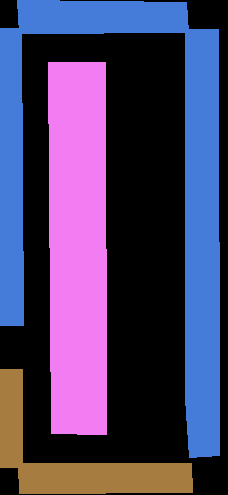parkingspot: (185, 29, 219, 457), (48, 62, 79, 433), (76, 62, 106, 434), (0, 28, 23, 325), (17, 0, 188, 33), (18, 463, 192, 493), (0, 369, 22, 467)
